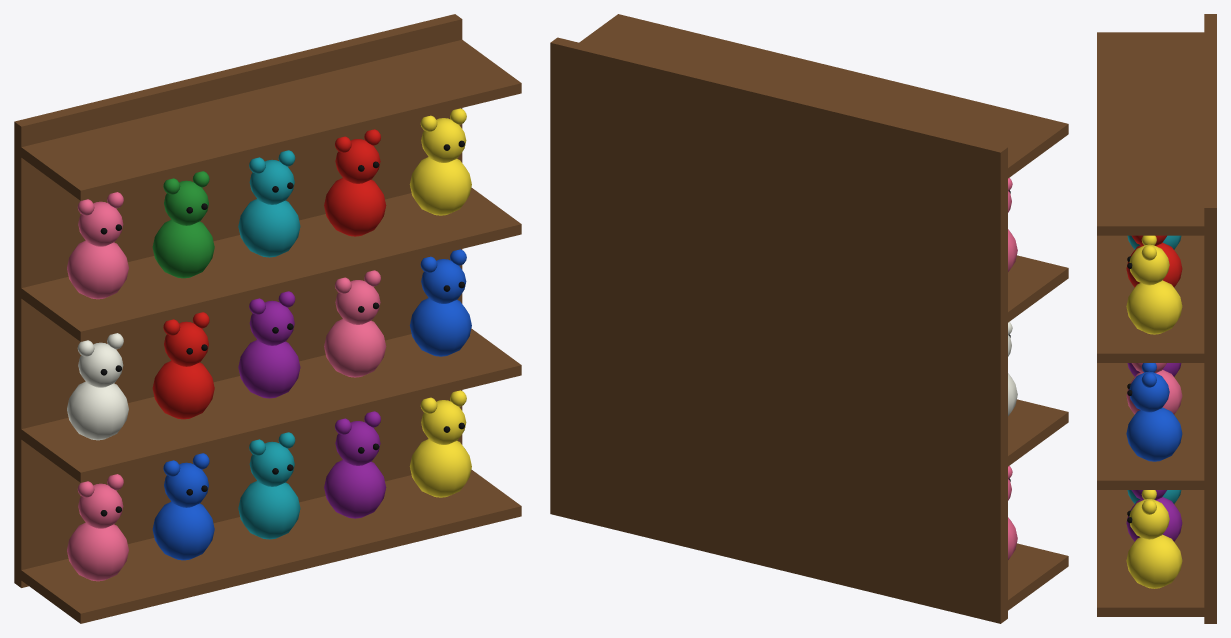
File: plush_shelf.glb
3 renders of one model, left to right at view 1: azimuth 30°, elevation 25°; view 2: azimuth 150°, elevation 25°; view 3: azimuth 270°, elevation 25°, orthographic. The views are drawn at different scales.
Parts seen in each view (by area): view 1: plush_shelf; view 2: plush_shelf; view 3: plush_shelf.
Part boxes in pixels (left/top/right/bottom): plush_shelf: left=14, top=14, right=521, bottom=623; plush_shelf: left=550, top=14, right=1068, bottom=623; plush_shelf: left=1097, top=14, right=1216, bottom=623.
Size of the model in its own units: 1.8 by 1.8 by 0.47.
Materials: 1 (1 with a texture image).
